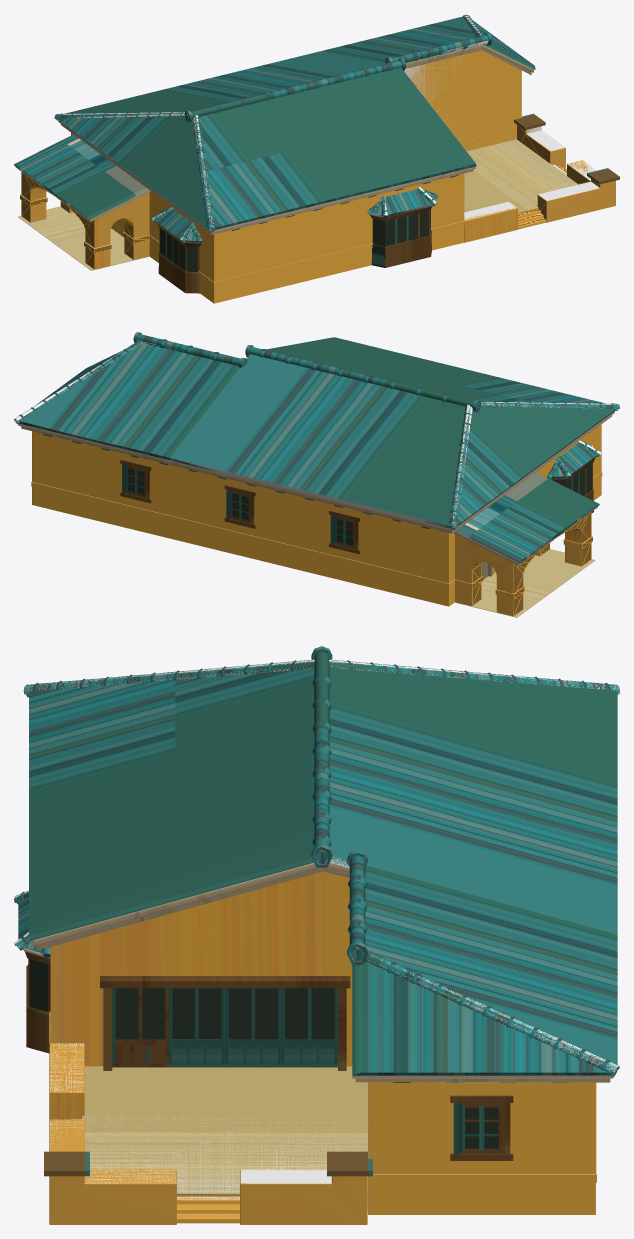
Rendered from objects_un_t03house01.gltf.
3 views of the same model, one above another, from view 1: azimuth 30°, elevation 25°; view 2: azimuth 150°, elevation 25°; view 3: azimuth 270°, elevation 25° (orthographic). The views are drawn at different scales.
Parts seen in each view (by area): view 1: nomerge_roof2_shape:objects_un_t03house01_roof01, nomerge_roof2_shape:objects_un_t03house01_wall01, nomerge_floor_mesh_shape:objects_un_t03house01_tile01, um_objects_un_t03house01_model_lod0Shape:objects_un_t03house (×2), um_objects_un_t03house01_model_lod2Shape:objects_un_t03house (×2), nomerge_roof2_shape:objects_un_t03house01_eaves01, nomerge_roof2_shape:objects_un_t03house01_window01, um_objects_un_t03house01_model_lod1Shape:objects_un_t03house; view 2: nomerge_roof2_shape:objects_un_t03house01_roof01, nomerge_roof2_shape:objects_un_t03house01_wall01, um_objects_un_t03house01_model_lod0Shape:objects_un_t03house (×2), nomerge_roof2_shape:objects_un_t03house01_eaves01, nomerge_floor_mesh_shape:objects_un_t03house01_tile01, um_objects_un_t03house01_model_lod1Shape:objects_un_t03house (×2), um_objects_un_t03house01_model_lod2Shape:objects_un_t03house (×2); view 3: nomerge_roof2_shape:objects_un_t03house01_roof01, nomerge_roof2_shape:objects_un_t03house01_wall01, nomerge_floor_mesh_shape:objects_un_t03house01_tile01, um_objects_un_t03house01_model_lod0Shape:objects_un_t03house (×3), um_objects_un_t03house01_model_lod1Shape:objects_un_t03house (×2), nomerge_roof2_shape:objects_un_t03house01_eaves01, nomerge_roof2_shape:objects_un_t03house01_window01, um_objects_un_t03house01_model_lod2Shape:objects_un_t03house (×2).
Boxes of the visible parts, x1,y1,x2,y2 form: nomerge_roof2_shape:objects_un_t03house01_roof01: (14, 14, 535, 243); nomerge_roof2_shape:objects_un_t03house01_wall01: (20, 50, 615, 303); nomerge_floor_mesh_shape:objects_un_t03house01_tile01: (18, 139, 577, 270); um_objects_un_t03house01_model_lod0Shape:objects_un_t03house (×2): (20, 14, 599, 293); um_objects_un_t03house01_model_lod2Shape:objects_un_t03house (×2): (157, 206, 432, 291); nomerge_roof2_shape:objects_un_t03house01_eaves01: (15, 44, 533, 234); nomerge_roof2_shape:objects_un_t03house01_window01: (24, 113, 619, 230); um_objects_un_t03house01_model_lod1Shape:objects_un_t03house: (159, 211, 431, 280); nomerge_roof2_shape:objects_un_t03house01_roof01: (14, 332, 619, 563); nomerge_roof2_shape:objects_un_t03house01_wall01: (31, 424, 602, 616); um_objects_un_t03house01_model_lod0Shape:objects_un_t03house (×2): (14, 340, 618, 593); nomerge_roof2_shape:objects_un_t03house01_eaves01: (18, 411, 614, 565); nomerge_floor_mesh_shape:objects_un_t03house01_tile01: (455, 549, 595, 617); um_objects_un_t03house01_model_lod1Shape:objects_un_t03house (×2): (125, 463, 593, 549); um_objects_un_t03house01_model_lod2Shape:objects_un_t03house (×2): (125, 458, 595, 548); nomerge_roof2_shape:objects_un_t03house01_roof01: (14, 646, 619, 1076); nomerge_roof2_shape:objects_un_t03house01_wall01: (49, 871, 596, 1224); nomerge_floor_mesh_shape:objects_un_t03house01_tile01: (81, 1066, 367, 1194); um_objects_un_t03house01_model_lod0Shape:objects_un_t03house (×3): (14, 659, 619, 1217); um_objects_un_t03house01_model_lod1Shape:objects_un_t03house (×2): (27, 959, 337, 1066); nomerge_roof2_shape:objects_un_t03house01_eaves01: (33, 863, 613, 1082); nomerge_roof2_shape:objects_un_t03house01_window01: (44, 1082, 568, 1176); um_objects_un_t03house01_model_lod2Shape:objects_un_t03house (×2): (24, 951, 50, 1049).
Size of what is drawn, in the model's own units: 29.09 by 7.79 by 17.18.
Materials: 12 (10 with a texture image).
